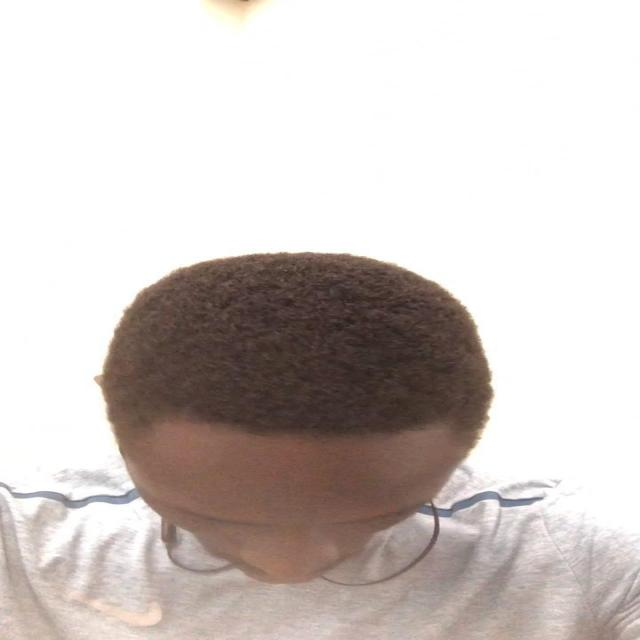face: (122, 431, 474, 587)
